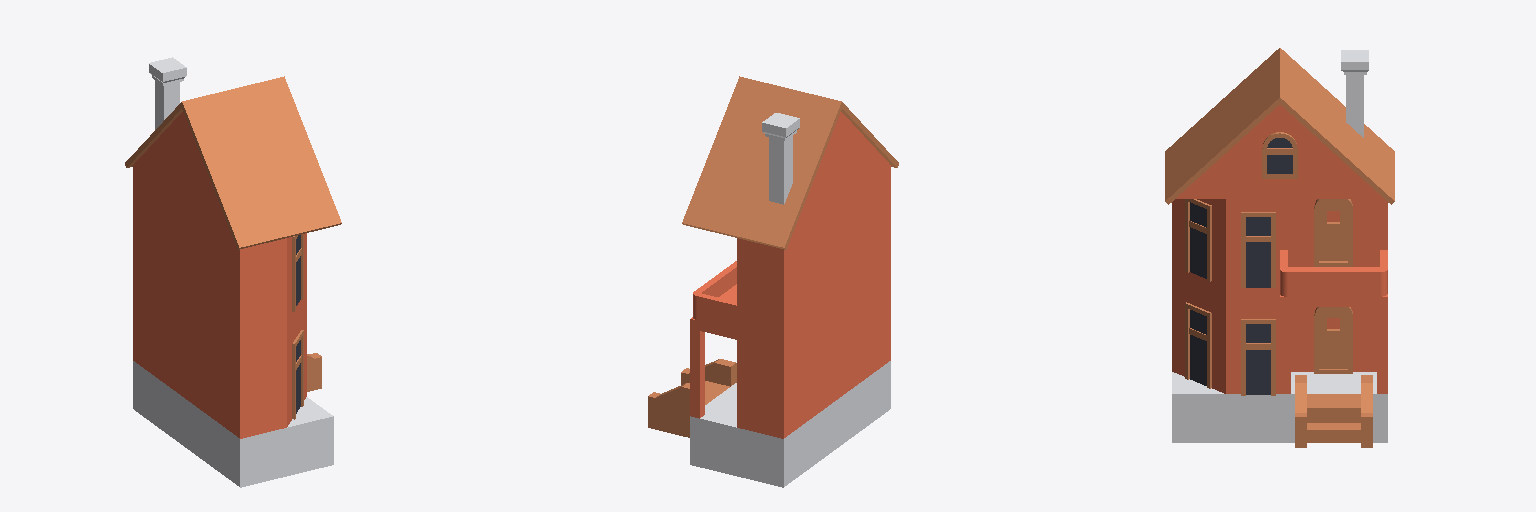
The model's file is Victorian1.obj.
The picture shows the model from 3 angles: view 1: azimuth 30°, elevation 25°; view 2: azimuth 150°, elevation 25°; view 3: azimuth 270°, elevation 25°; orthographic projection.
Bounding box in the file's own units: 1.59 × 3.6 × 2.14.